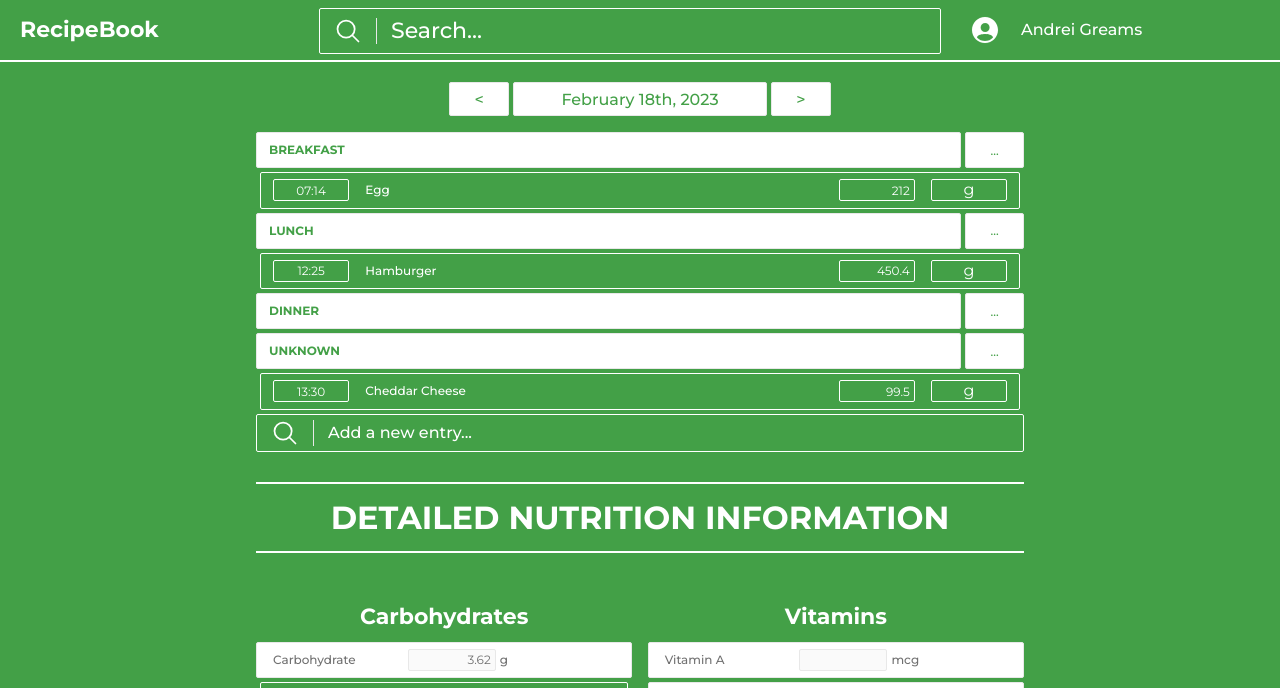
journal_page › page › can change the current day (and go back) and see different entries
Expected: the element with test id "CY_JOURNAL_BLOCK" is shown, [256,132,1024,452]
Expected: the text "LUNCH" is shown, [256,212,961,248]
Click the button ">": (801, 99) [771,82,831,116]
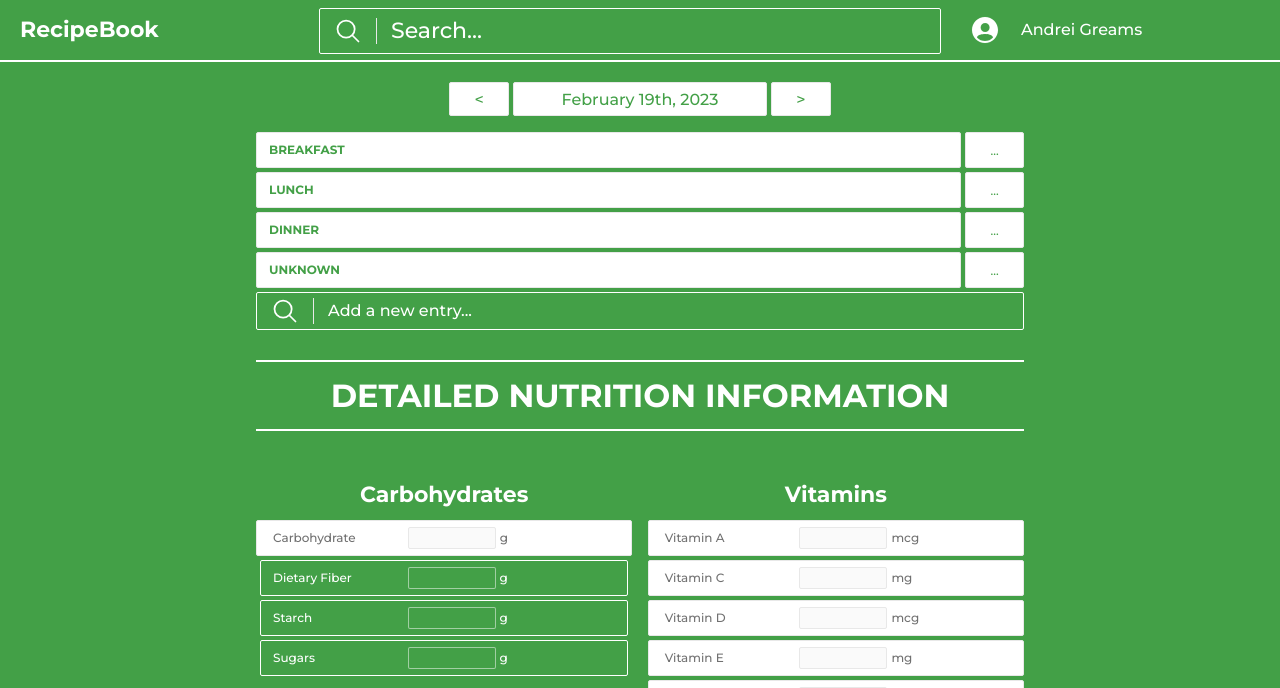
Expected: the element showing "LUNCH ..." is shown, [256,172,1024,208]
Expected: the element with test id "CY_JOURNAL_ENTRY" is gone
Click the button "<": (479, 99) [449,82,509,116]
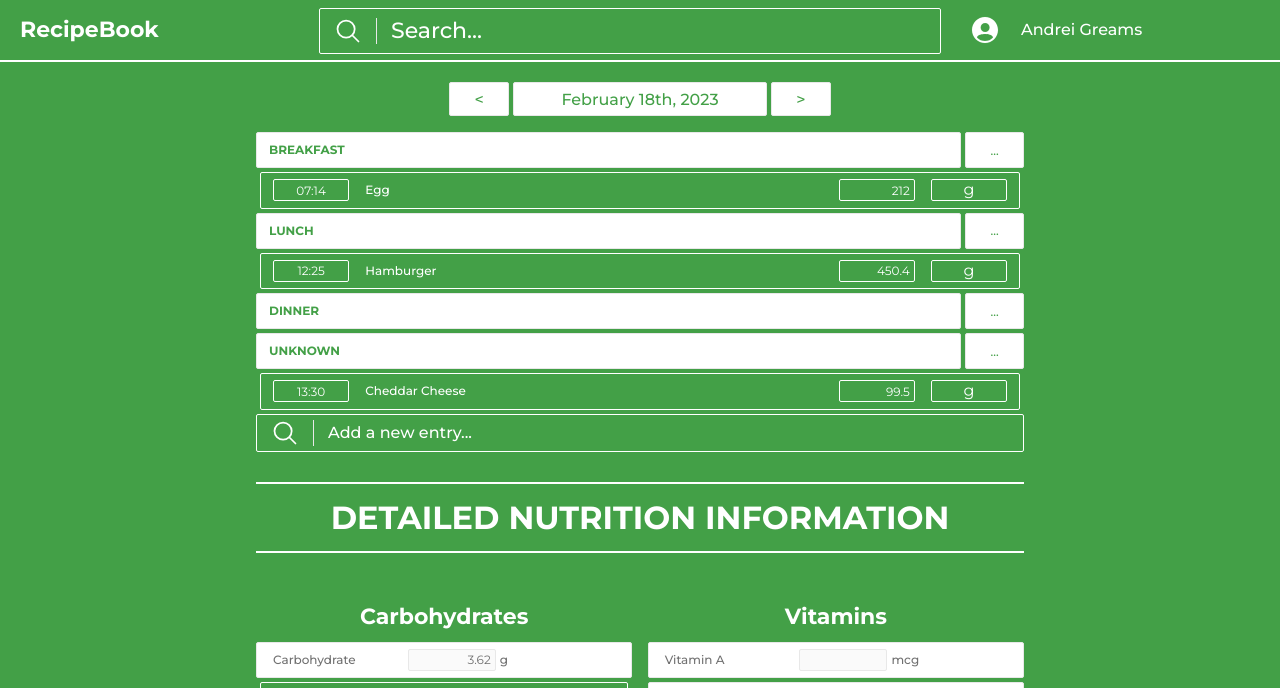
Expected: the element showing "LUNCH ... Hamburger g" is shown, [256,212,1024,289]
Expected: the button "Hamburger" is shown, [365,262,436,278]
